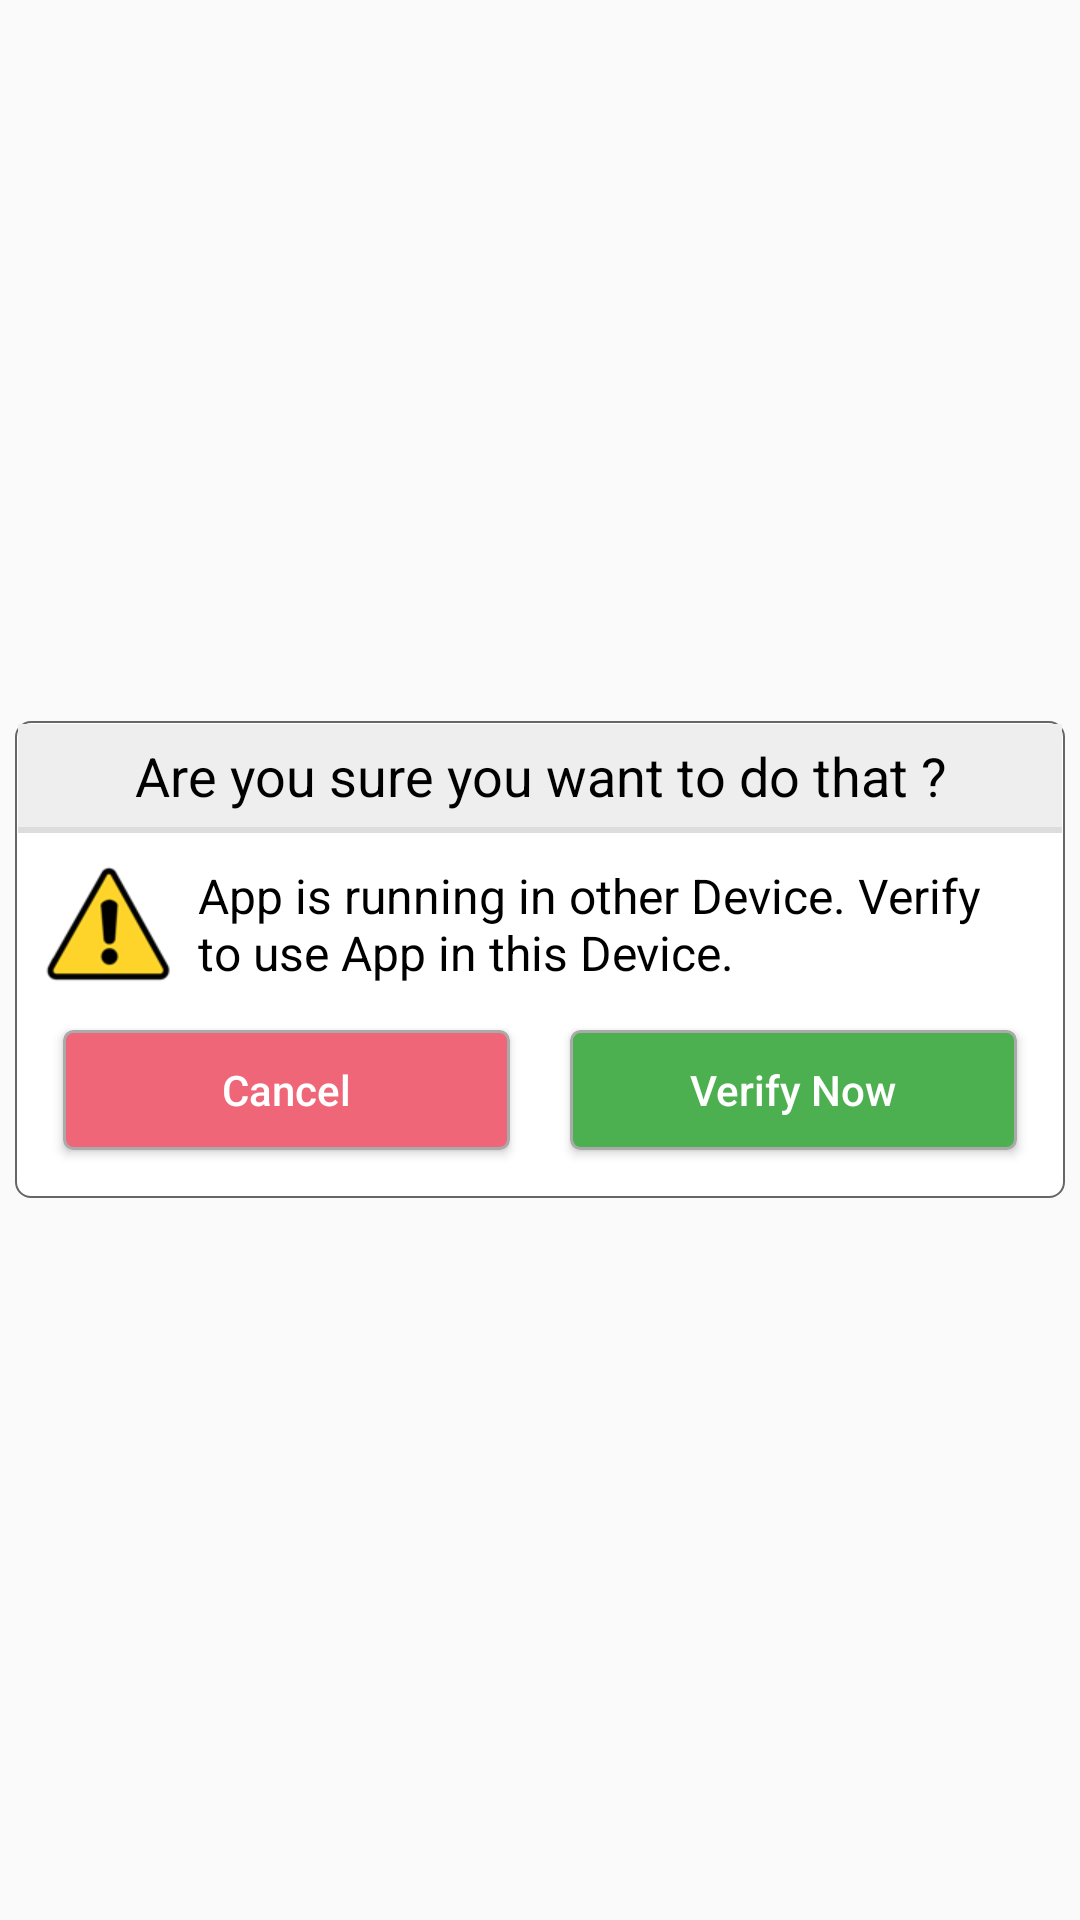

Named icons in this screenshot (1080 x 1920) and their bounding boxes, [x1, y1, x2, y2]:
warning: [46, 867, 170, 981]
